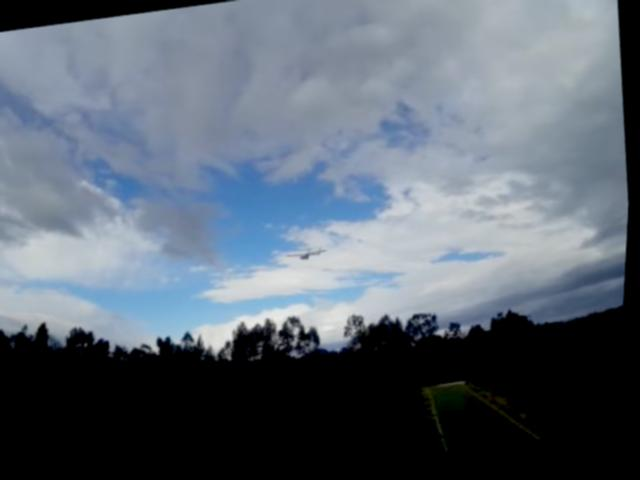uav: (287, 244, 331, 264)
